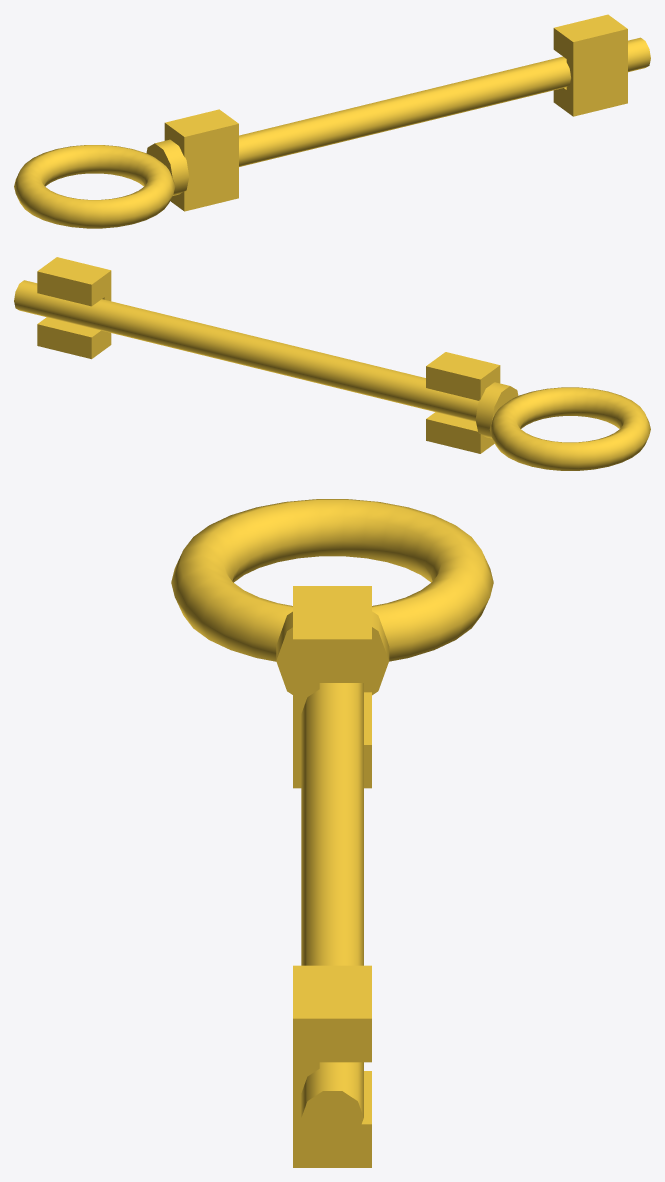
Rendered from PIN.fbx.
3 renders of one model, top to bottom at view 1: azimuth 30°, elevation 25°; view 2: azimuth 150°, elevation 25°; view 3: azimuth 270°, elevation 25°, orthographic. The views are drawn at different scales.
Parts seen in each view (by area): view 1: BAR, CIRCLE, Lock, Lock (1); view 2: BAR, CIRCLE, Lock, Lock (1); view 3: CIRCLE, BAR, Lock, Lock (1).
Part boxes in pixels (box(x1,y1,x2,y2)): BAR: box(239, 37, 650, 166); CIRCLE: box(14, 139, 189, 228); Lock: box(553, 14, 627, 116); Lock (1): box(164, 109, 238, 211); BAR: box(14, 280, 478, 421); CIRCLE: box(475, 382, 650, 470); Lock: box(37, 257, 111, 359); Lock (1): box(426, 352, 500, 453); CIRCLE: box(171, 499, 493, 695); BAR: box(301, 683, 363, 1144); Lock: box(293, 965, 371, 1167); Lock (1): box(293, 586, 371, 788).
Size of the model in its own units: 7.24 by 0.8346 by 1.64.
